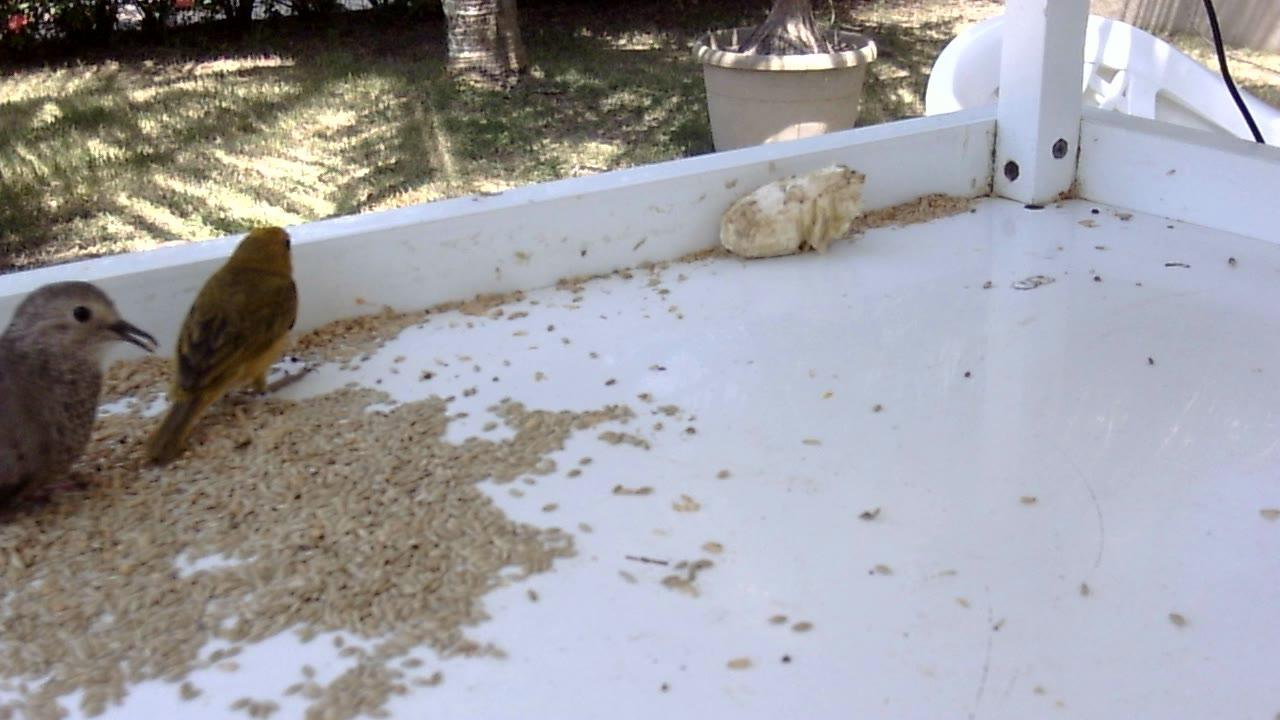canario_do_amazonas: (144, 224, 322, 472)
rolinha: (1, 274, 163, 526)
